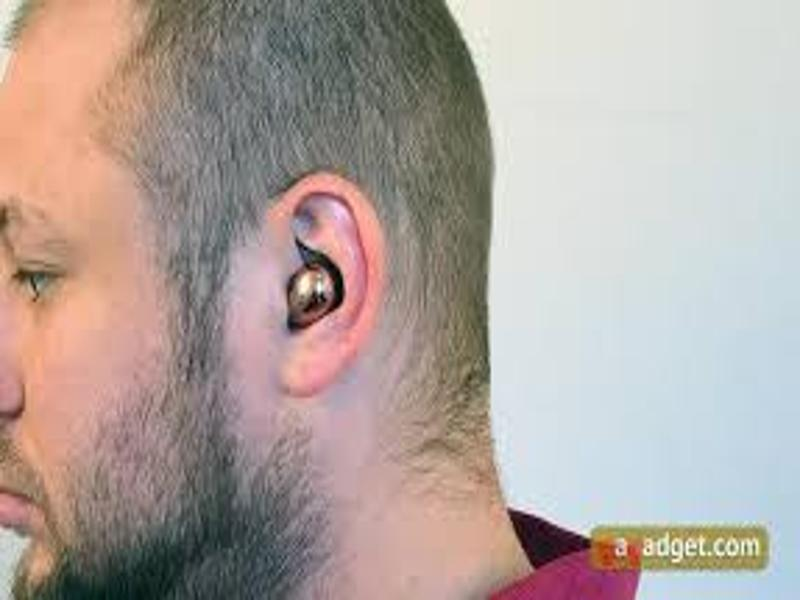headphone: (282, 266, 340, 327)
